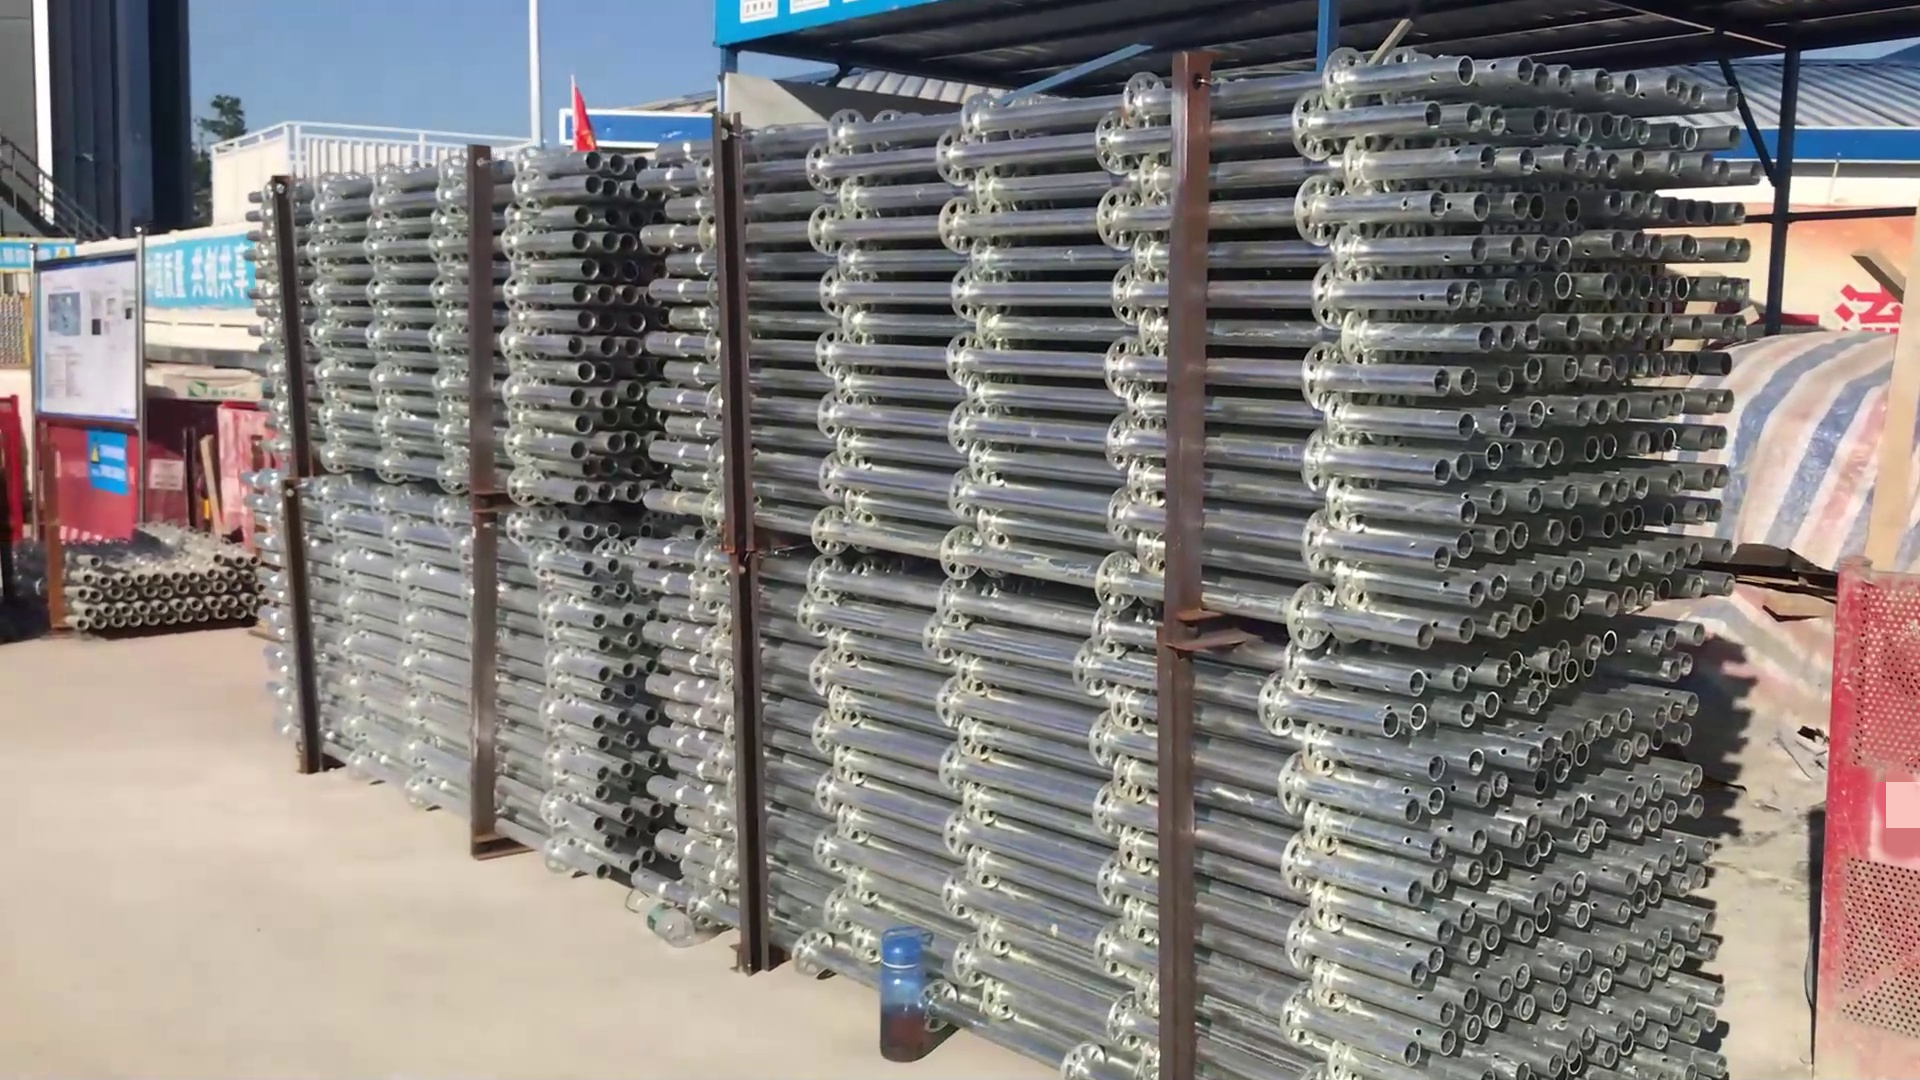fence: (1817, 564, 1920, 1080)
scaffold: (629, 66, 1702, 1080), (258, 165, 661, 885), (55, 531, 258, 641)
slogan: (152, 247, 248, 306), (87, 433, 127, 495)
